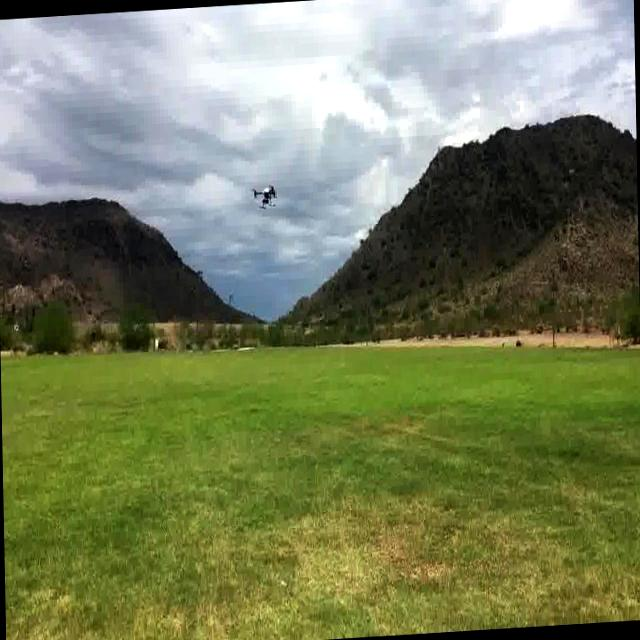drone: (250, 182, 282, 211)
